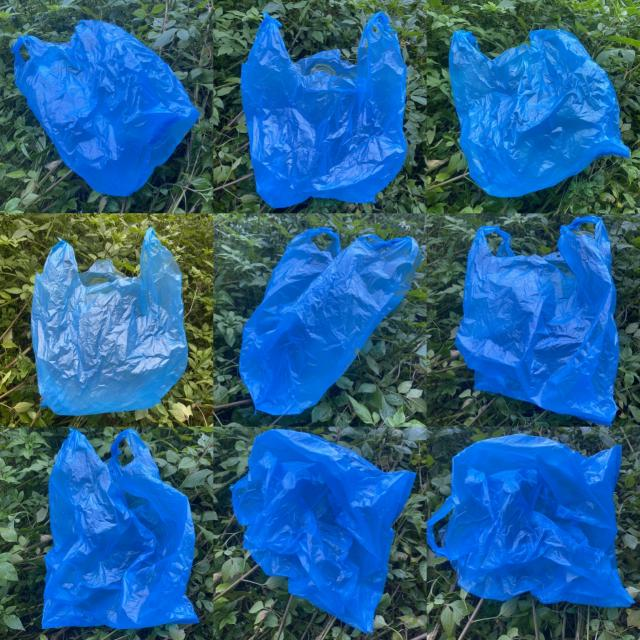Single-layer Plastic: (231, 429, 415, 632), (426, 434, 631, 608), (239, 228, 422, 415), (455, 216, 619, 424), (11, 20, 199, 196), (241, 11, 406, 207), (42, 429, 199, 629), (449, 30, 630, 198), (31, 228, 188, 415)
